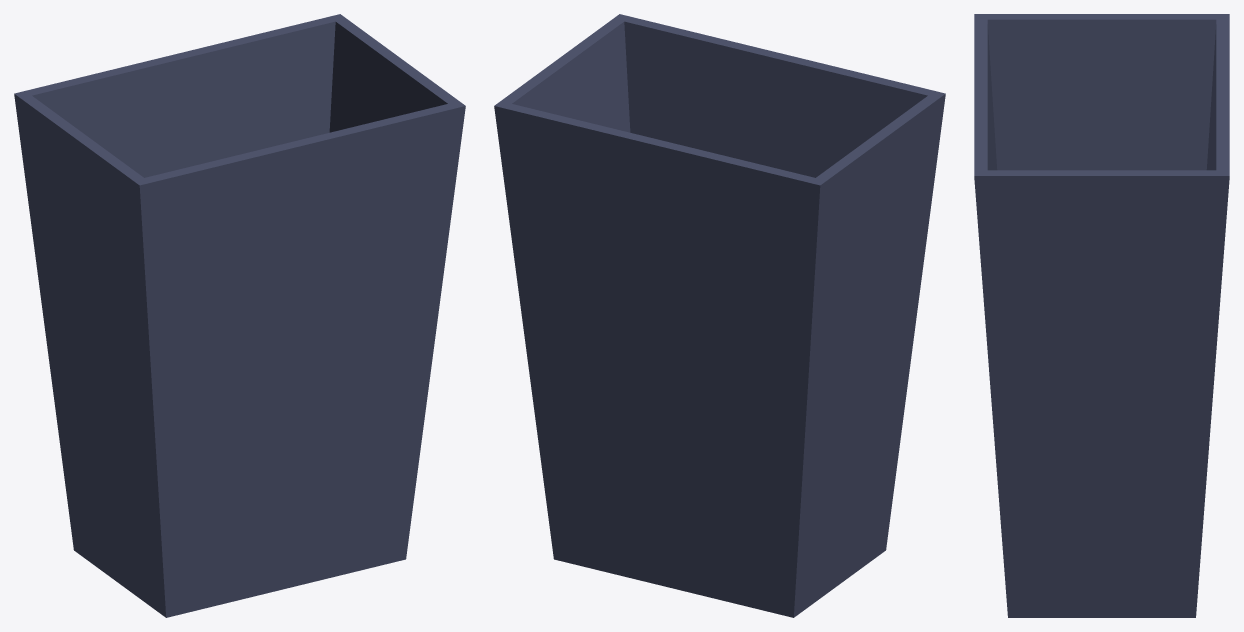
File: trashcan.fbx
3 views of the same model, side by side, from view 1: azimuth 30°, elevation 25°; view 2: azimuth 150°, elevation 25°; view 3: azimuth 270°, elevation 25° (orthographic).
Visible parts, largest first — view 1: Cube; view 2: Cube; view 3: Cube.
Boxes of the visible parts, left/top/right/bottom form: Cube: left=14, top=14, right=465, bottom=617; Cube: left=494, top=14, right=945, bottom=617; Cube: left=974, top=14, right=1229, bottom=617.
Bounding box in the file's own units: 30 × 20 × 40.
